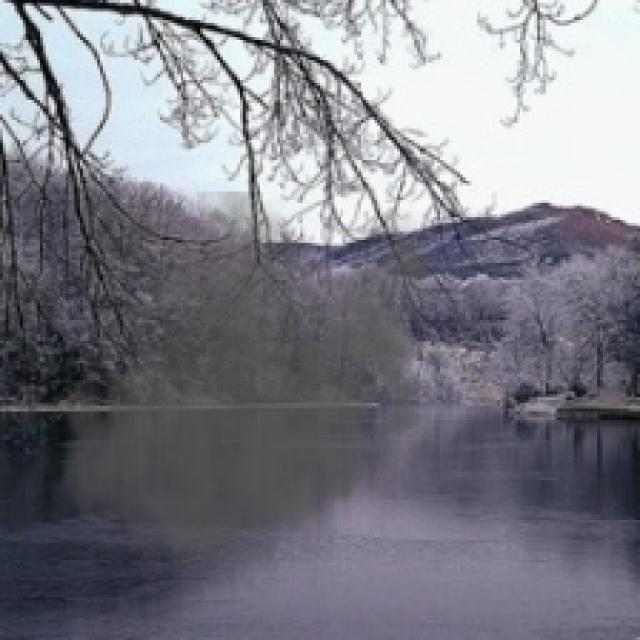Smoke: (54, 192, 446, 592)
